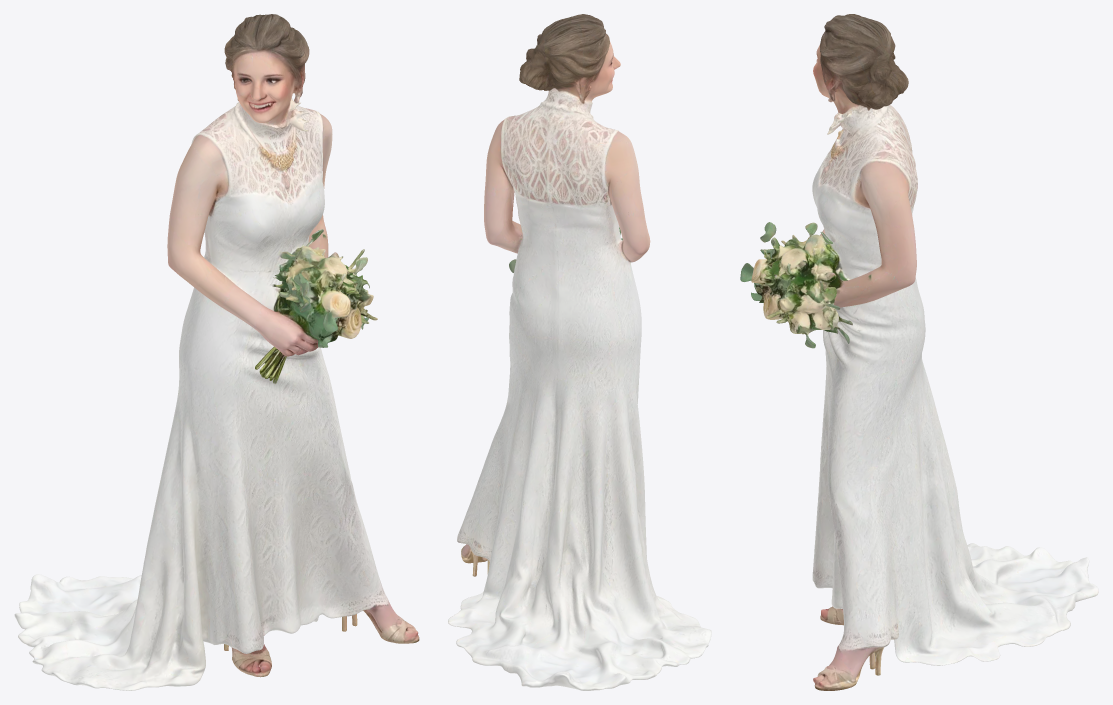
Rendered from bride.glb.
3 renders of one model, left to right at view 1: azimuth 30°, elevation 25°; view 2: azimuth 150°, elevation 25°; view 3: azimuth 270°, elevation 25°, orthographic. The views are drawn at different scales.
Parts seen in each view (by area): view 1: Object_5; view 2: Object_5; view 3: Object_5.
Boxes of the visible parts, x1,y1,x2,y2 form: Object_5: [14, 14, 419, 690]; Object_5: [448, 14, 711, 690]; Object_5: [740, 14, 1098, 690].
Size of the model in its own units: 0.9907 by 1.9 by 1.01.
Materials: 1 (1 with a texture image).
